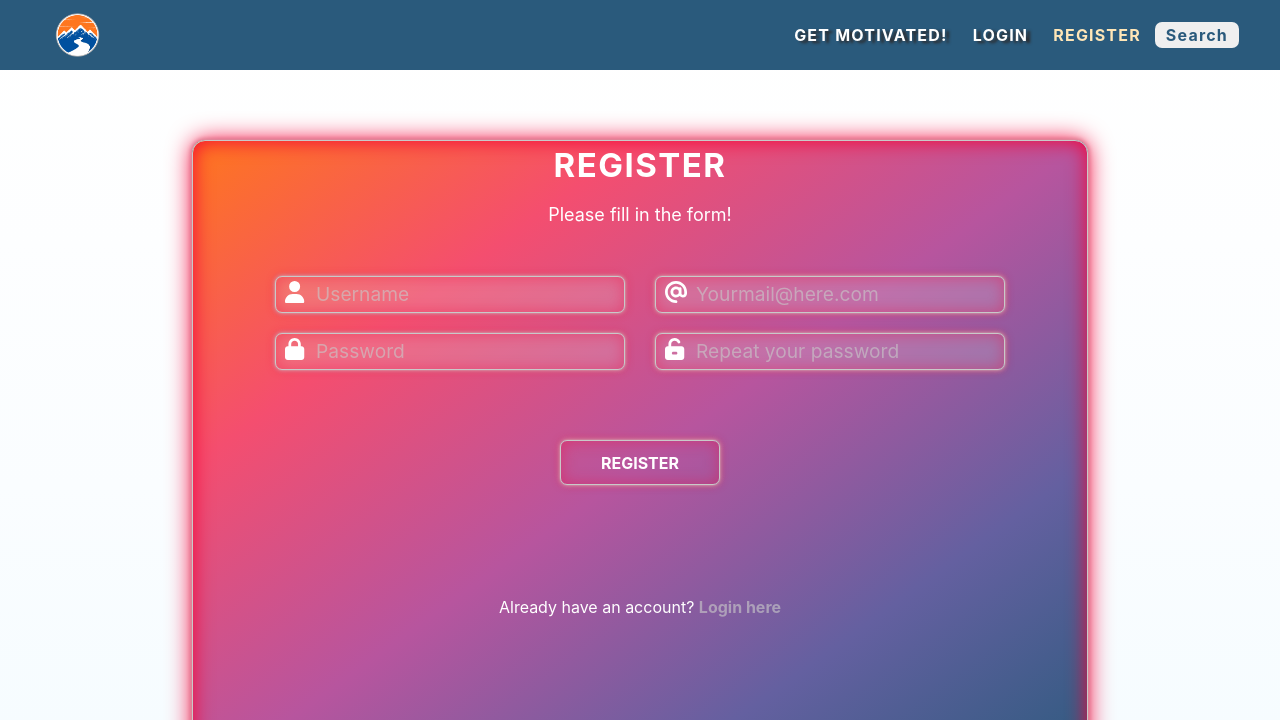
it: Register Page Unhappy Paths › Show input validation errors on blur › username validation error #1 with less than 3 characters
This screenshot has width=1280, height=720.
Step 1. Type "us" into the field with placeholder "Username" → [450, 295], box [275,276,625,313]
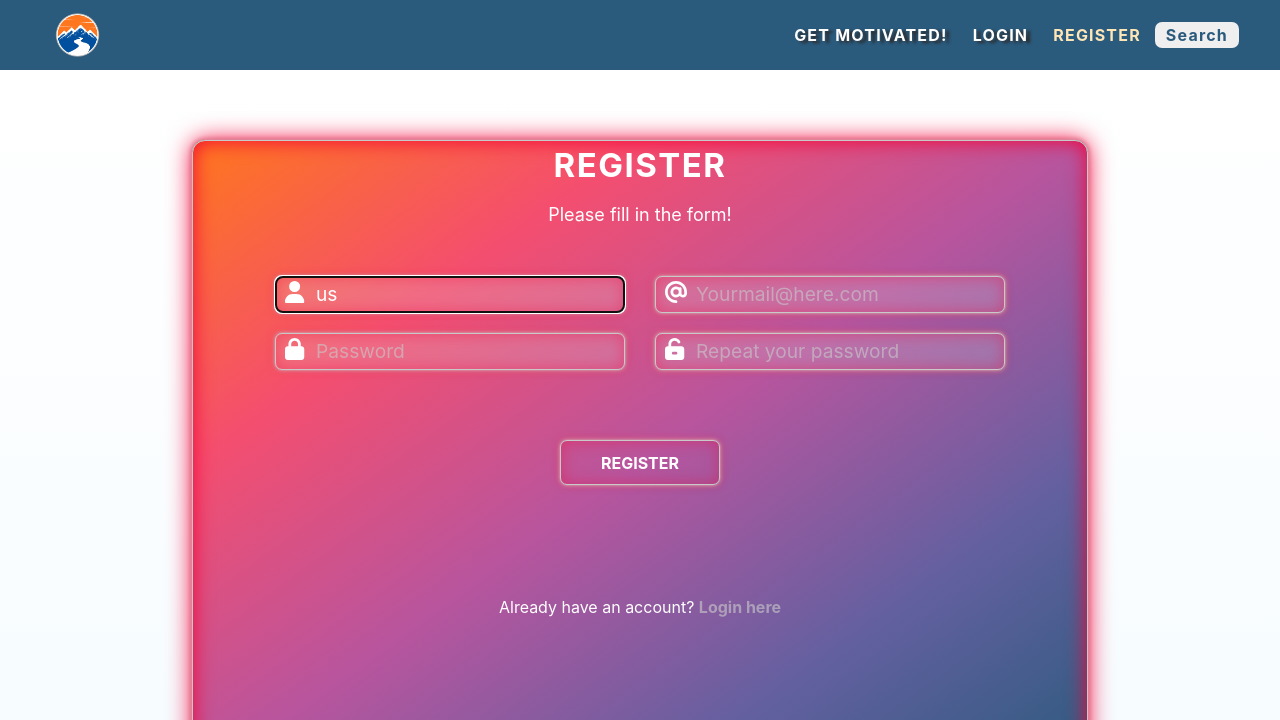
Step 2. Leave the 1st field, box [275,276,625,313]
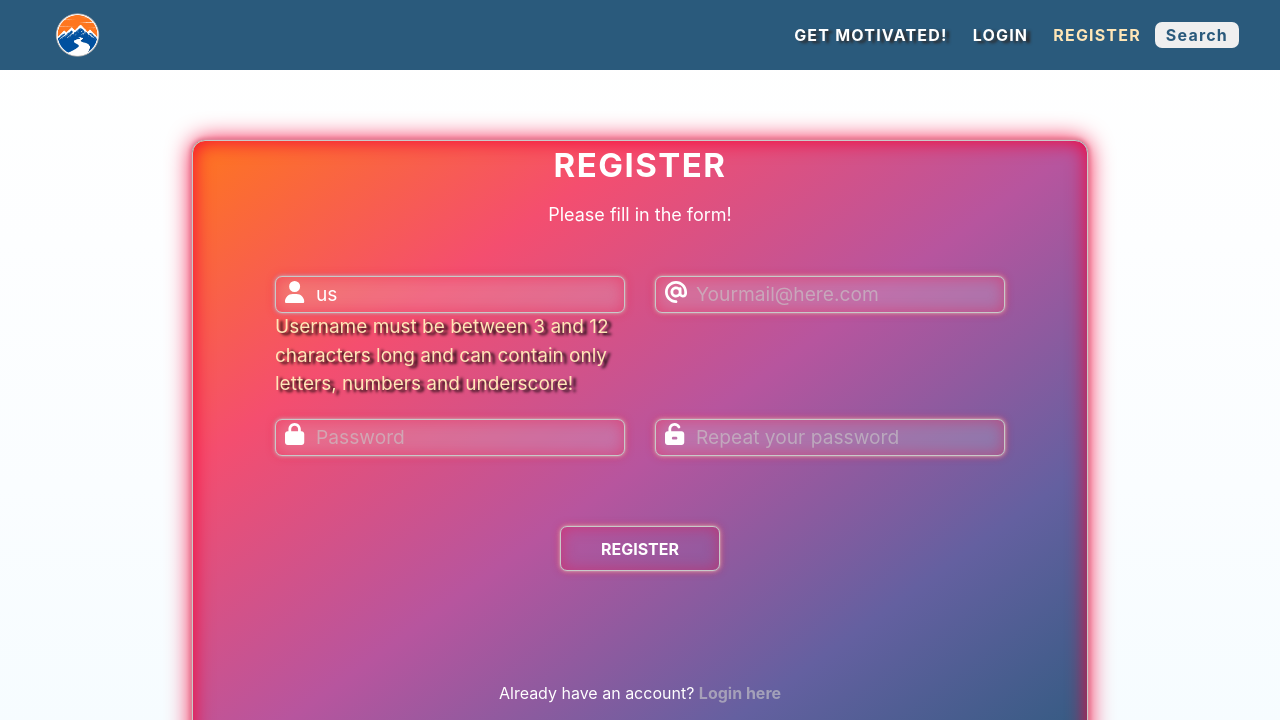
Now the text "Username must be between 3 and 12 characters long and can contain only letters, numbers and underscore!" is shown, box [275,315,609,395]
